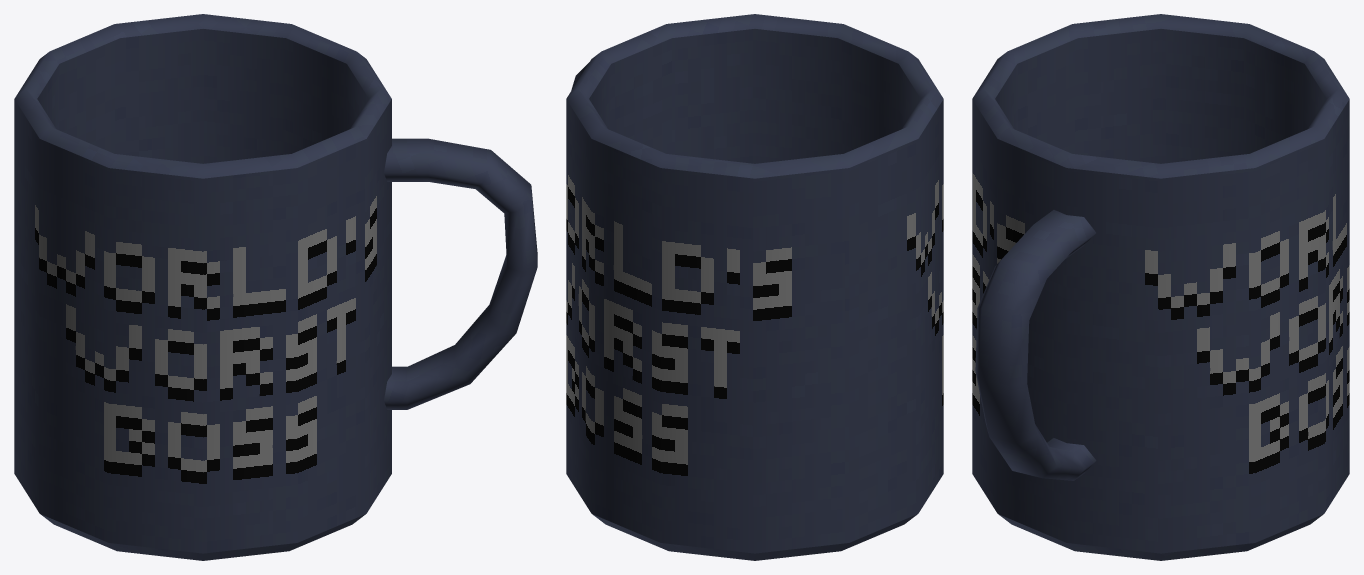
The model's file is cup_etx_1.glb.
3 views of the same model, side by side, from view 1: azimuth 30°, elevation 25°; view 2: azimuth 150°, elevation 25°; view 3: azimuth 270°, elevation 25° (orthographic).
Visible parts, largest first — view 1: cup_etx_1; view 2: cup_etx_1; view 3: cup_etx_1.
Boxes of the visible parts, x1,y1,x2,y2 form: cup_etx_1: (14, 14, 537, 560); cup_etx_1: (566, 14, 943, 560); cup_etx_1: (972, 14, 1349, 560).
Size of the model in its own units: 0.1548 by 0.14 by 0.12.
Materials: 1 (1 with a texture image).
